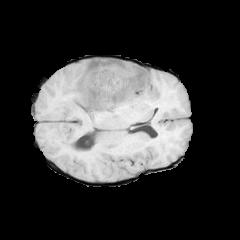glioma: (61, 59, 149, 120)
